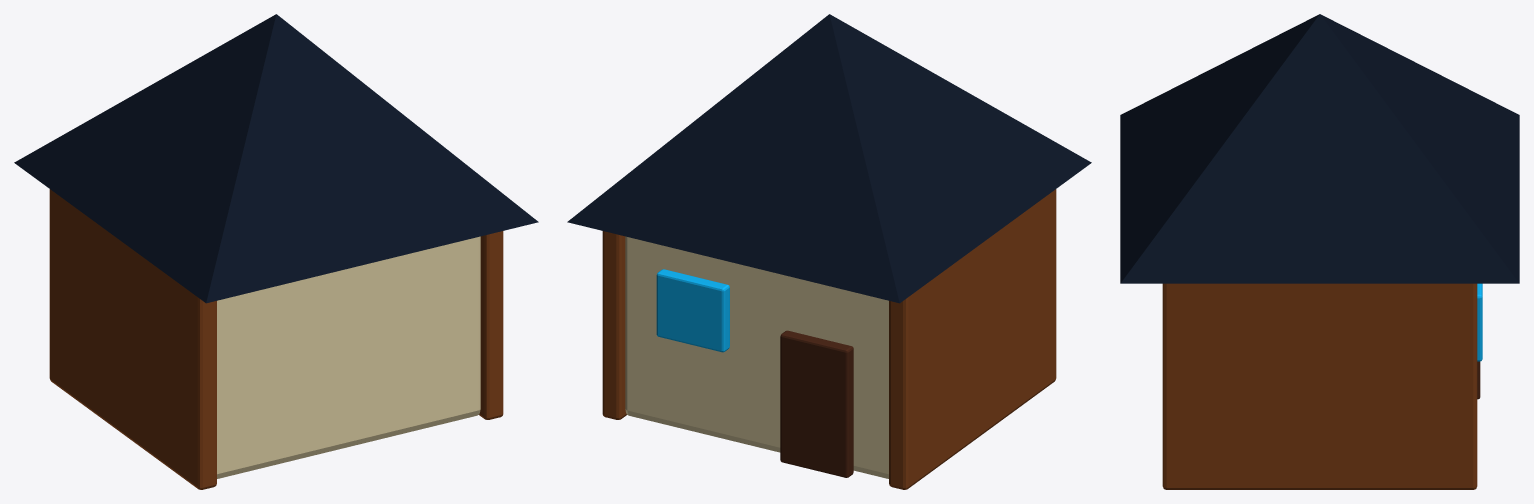
Rendered from village_house_b.obj.
3 views of the same model, side by side, from view 1: azimuth 30°, elevation 25°; view 2: azimuth 150°, elevation 25°; view 3: azimuth 270°, elevation 25° (orthographic). The views are drawn at different scales.
Parts seen in each view (by area): view 1: house_b_roof_M_navy, house_b_body_M_cream, house_b_beam_0.42_M_wood, house_b_beam_-0.42_M_wood; view 2: house_b_roof_M_navy, house_b_body_M_cream, house_b_beam_0.42_M_wood, house_b_door_M_brown, house_b_window_M_cyan, house_b_beam_-0.42_M_wood; view 3: house_b_roof_M_navy, house_b_beam_-0.42_M_wood, house_b_window_M_cyan.
Boxes of the visible parts, x1=… form: house_b_roof_M_navy: x1=14, y1=14, x2=538, y2=303; house_b_body_M_cream: x1=217, y1=236, x2=480, y2=478; house_b_beam_0.42_M_wood: x1=49, y1=189, x2=216, y2=489; house_b_beam_-0.42_M_wood: x1=479, y1=231, x2=503, y2=419; house_b_roof_M_navy: x1=567, y1=14, x2=1091, y2=303; house_b_body_M_cream: x1=625, y1=236, x2=888, y2=478; house_b_beam_0.42_M_wood: x1=889, y1=189, x2=1056, y2=489; house_b_door_M_brown: x1=780, y1=330, x2=853, y2=477; house_b_window_M_cyan: x1=656, y1=269, x2=729, y2=352; house_b_beam_-0.42_M_wood: x1=602, y1=231, x2=626, y2=419; house_b_roof_M_navy: x1=1120, y1=14, x2=1519, y2=283; house_b_beam_-0.42_M_wood: x1=1162, y1=283, x2=1477, y2=489; house_b_window_M_cyan: x1=1477, y1=283, x2=1482, y2=361.
Bounding box in the file's own units: 0.9758 × 1.08 × 0.9758.
